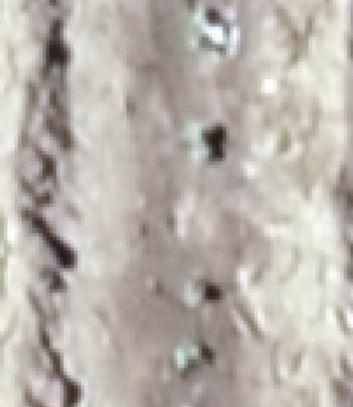cotton: (175, 346, 200, 374), (190, 123, 207, 160), (186, 282, 206, 307)
